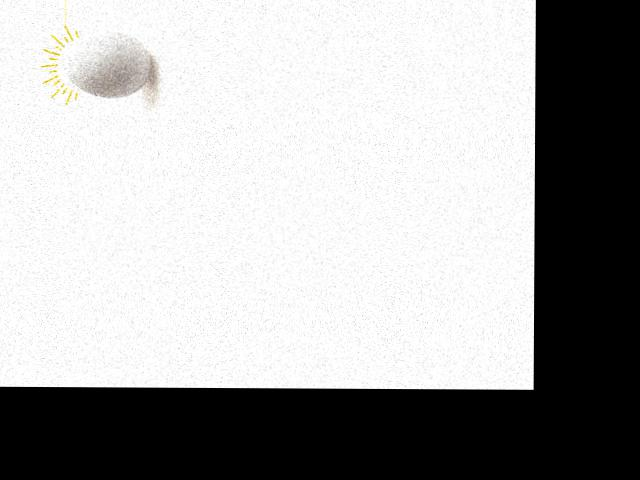egg: (64, 31, 150, 97)
